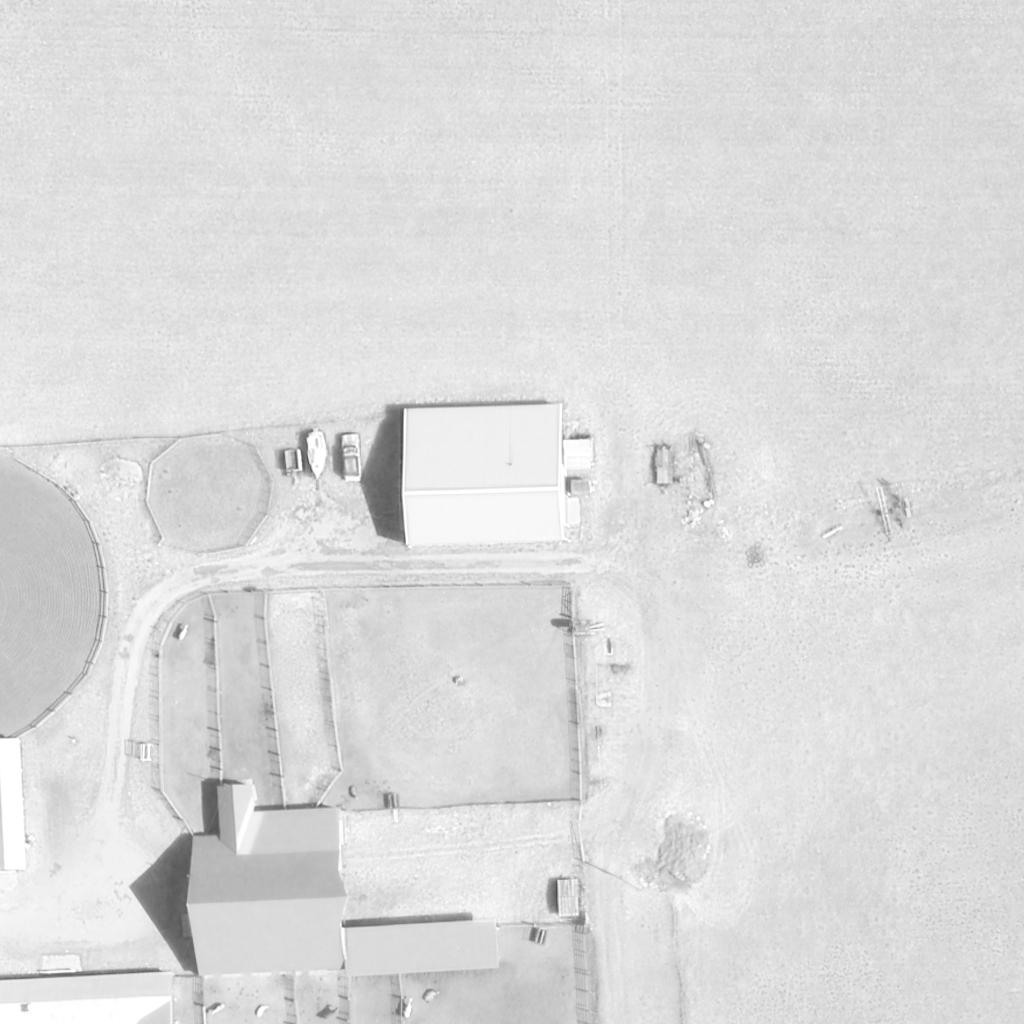vehicle: (338, 433, 366, 483), (305, 432, 329, 478)
